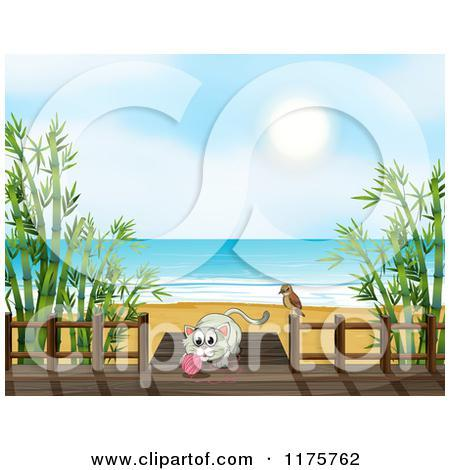bird: (275, 283, 311, 318)
cat: (177, 306, 272, 372)
